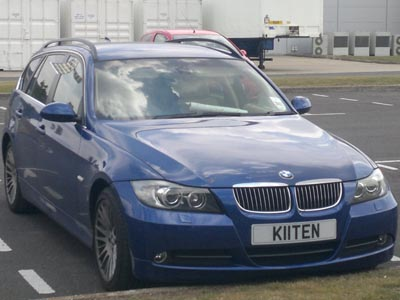licencePlate: (246, 219, 349, 246)
